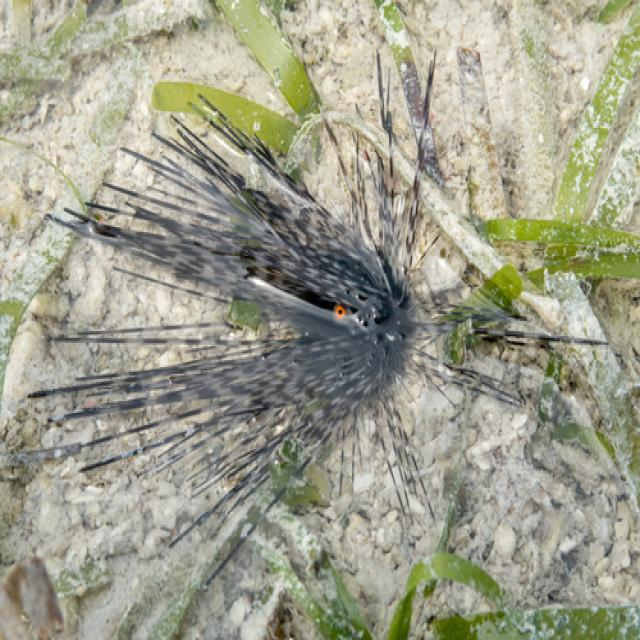Urchin: (14, 52, 614, 586)
